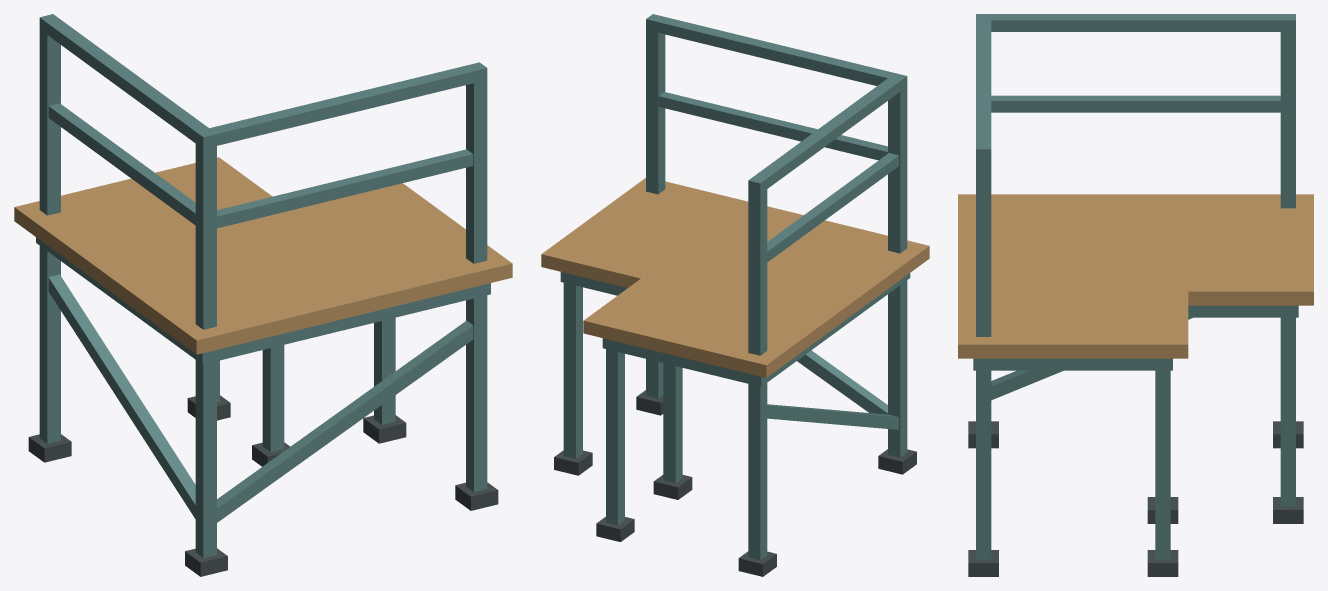
3 renders of one model, left to right at view 1: azimuth 30°, elevation 25°; view 2: azimuth 150°, elevation 25°; view 3: azimuth 270°, elevation 25°, orthographic. The views are drawn at different scales.
Visible parts, largest first — view 1: ContinuousConcaveLThickDeck, ContinuousOuterLRailCap, OrthogonalCutEndBrace_1, OrthogonalCutEndBrace_2, OuterMiddleRail_1, ContinuousConcaveLOpenUnderframe, CompleteSupportPost_1, CompleteSupportPost_2, OuterRailStanchion_1, CompleteSupportPost_6, OuterRailStanchion_2, OuterRailStanchion_3 (+7 smaller); view 2: ContinuousConcaveLThickDeck, ContinuousOuterLRailCap, OuterMiddleRail_1, CompleteSupportPost_6, CompleteSupportPost_3, CompleteSupportPost_5, ContinuousConcaveLOpenUnderframe, CompleteSupportPost_1, OuterRailStanchion_3, OuterRailStanchion_2, OuterRailStanchion_1, OuterMiddleRail_2 (+10 smaller); view 3: ContinuousConcaveLThickDeck, ContinuousOuterLRailCap, OuterMiddleRail_2, ContinuousConcaveLOpenUnderframe, CompleteSupportPost_3, CompleteSupportPost_2, CompleteSupportPost_5, OuterRailStanchion_2, OuterRailStanchion_3, OrthogonalCutEndBrace_2, FlatGroundFoot_3, FlatGroundFoot_5 (+2 smaller).
Boxes of the visible parts, bbox=[...] form: ContinuousConcaveLThickDeck: bbox=[14, 157, 512, 354]; ContinuousOuterLRailCap: bbox=[39, 14, 487, 148]; OrthogonalCutEndBrace_1: bbox=[217, 320, 473, 522]; OrthogonalCutEndBrace_2: bbox=[48, 274, 195, 518]; OuterMiddleRail_1: bbox=[217, 149, 473, 228]; ContinuousConcaveLOpenUnderframe: bbox=[36, 237, 490, 364]; CompleteSupportPost_1: bbox=[195, 360, 216, 557]; CompleteSupportPost_2: bbox=[466, 295, 487, 491]; OuterRailStanchion_1: bbox=[195, 144, 216, 329]; CompleteSupportPost_6: bbox=[39, 246, 60, 443]; OuterRailStanchion_2: bbox=[466, 80, 487, 263]; OuterRailStanchion_3: bbox=[39, 29, 60, 215]; ContinuousConcaveLThickDeck: bbox=[541, 178, 929, 377]; ContinuousOuterLRailCap: bbox=[646, 14, 907, 193]; OuterMiddleRail_1: bbox=[658, 92, 887, 160]; CompleteSupportPost_6: bbox=[748, 383, 767, 559]; CompleteSupportPost_3: bbox=[563, 282, 582, 458]; CompleteSupportPost_5: bbox=[606, 349, 624, 525]; ContinuousConcaveLOpenUnderframe: bbox=[560, 272, 910, 386]; CompleteSupportPost_1: bbox=[888, 280, 907, 457]; OuterRailStanchion_3: bbox=[748, 189, 767, 355]; OuterRailStanchion_2: bbox=[646, 30, 665, 194]; OuterRailStanchion_1: bbox=[888, 87, 907, 253]; OuterMiddleRail_2: bbox=[767, 153, 898, 262]; ContinuousConcaveLThickDeck: bbox=[958, 194, 1313, 358]; ContinuousOuterLRailCap: bbox=[976, 14, 1295, 160]; OuterMiddleRail_2: bbox=[991, 95, 1280, 112]; ContinuousConcaveLOpenUnderframe: bbox=[973, 305, 1298, 370]; CompleteSupportPost_3: bbox=[1155, 370, 1170, 559]; CompleteSupportPost_2: bbox=[976, 370, 991, 559]; CompleteSupportPost_5: bbox=[1280, 317, 1295, 506]; OuterRailStanchion_2: bbox=[976, 160, 991, 336]; OuterRailStanchion_3: bbox=[1280, 32, 1295, 208]; OrthogonalCutEndBrace_2: bbox=[991, 317, 1192, 400]; FlatGroundFoot_3: bbox=[1147, 550, 1178, 576]; FlatGroundFoot_5: bbox=[1273, 497, 1303, 523].
Bounding box in the file's own units: 1.39 × 1.83 × 1.39.
